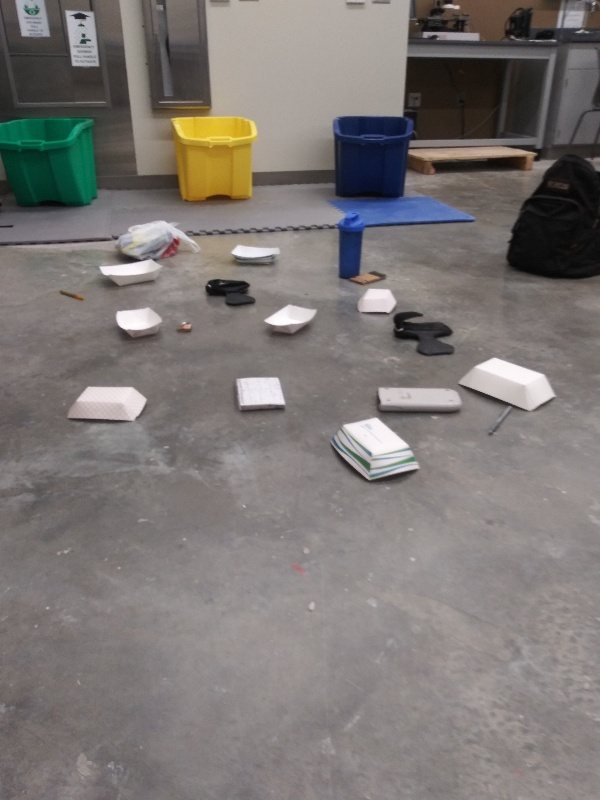plate: (323, 415, 426, 487), (452, 355, 562, 417), (63, 381, 149, 429), (97, 254, 166, 292), (262, 302, 323, 341), (114, 306, 165, 343), (227, 240, 286, 268), (352, 285, 401, 316)
